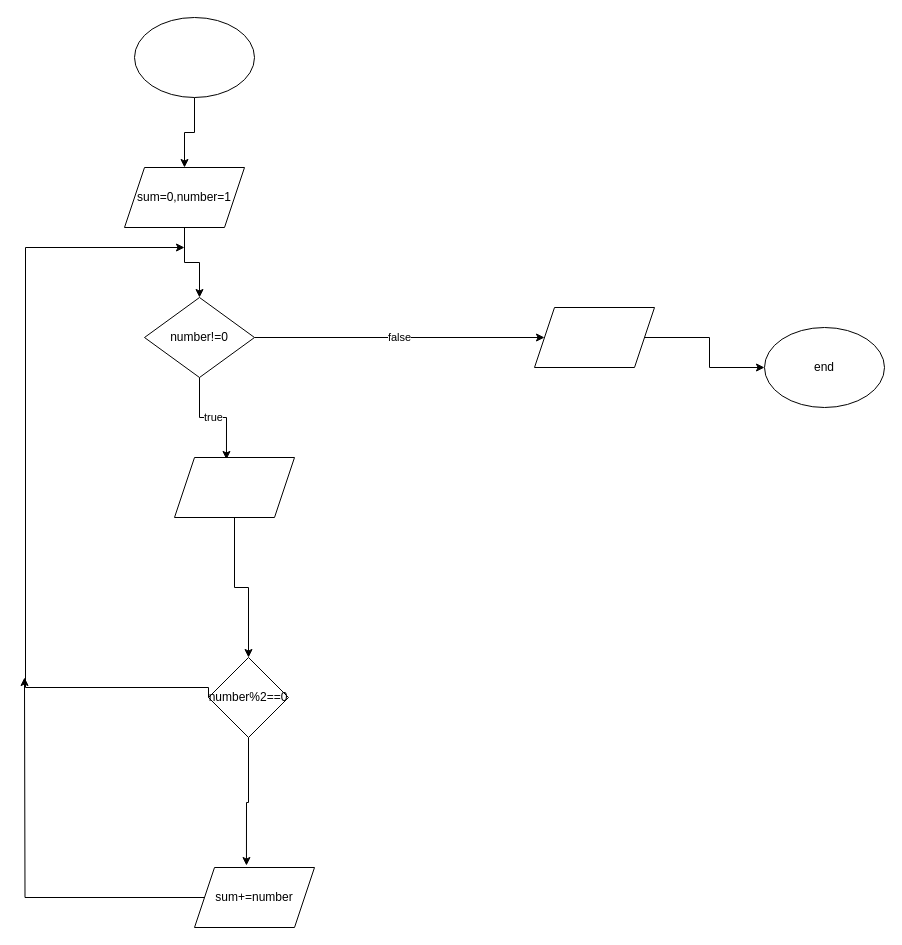
The diagram is 902 pixels wide and 945 high, and some of its shapes have lost their labels. The centre of each missing label's shape, as x and y in pixels:
number: [234,487]
printf sum: [594,337]
start: [194,57]
